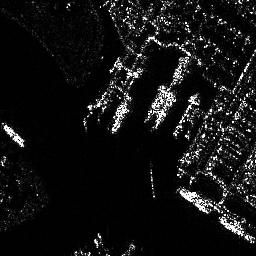ship: (174, 91, 201, 138), (217, 215, 256, 244), (177, 187, 211, 214), (152, 93, 176, 130), (144, 84, 167, 121), (108, 102, 132, 135), (1, 122, 25, 148)
